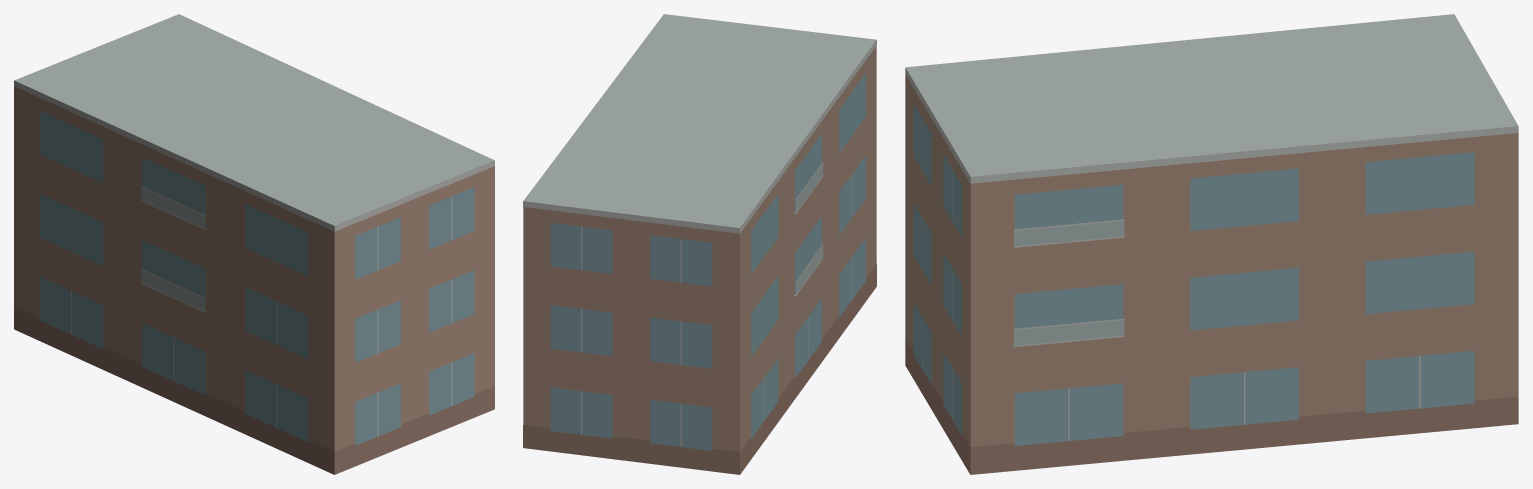
Rendered from survey-upis-32709144.glb.
3 views of the same model, side by side, from view 1: azimuth 30°, elevation 25°; view 2: azimuth 150°, elevation 25°; view 3: azimuth 270°, elevation 25° (orthographic). The views are drawn at different scales.
Visible parts, largest first — view 1: survey-upis-32709144.tmp; view 2: survey-upis-32709144.tmp; view 3: survey-upis-32709144.tmp.
Boxes of the visible parts, x1,y1,x2,y2 form: survey-upis-32709144.tmp: [14, 14, 494, 474]; survey-upis-32709144.tmp: [523, 14, 876, 474]; survey-upis-32709144.tmp: [905, 14, 1518, 474].
Bounding box in the file's own units: 12.43 × 10.6 × 19.78.
